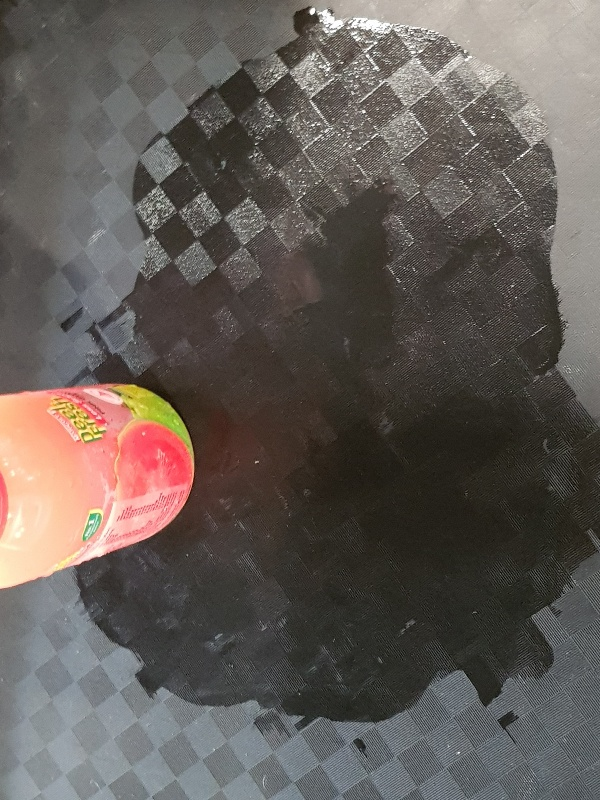Marigold Peel Fresh Pink Guava Juice Drink: (1, 380, 195, 589)
